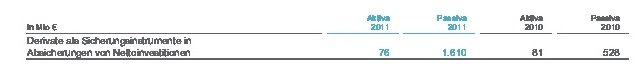table: (0, 0, 641, 76)
